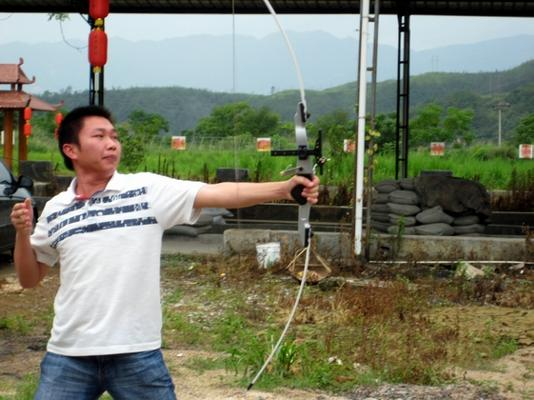person: (10, 105, 322, 400)
